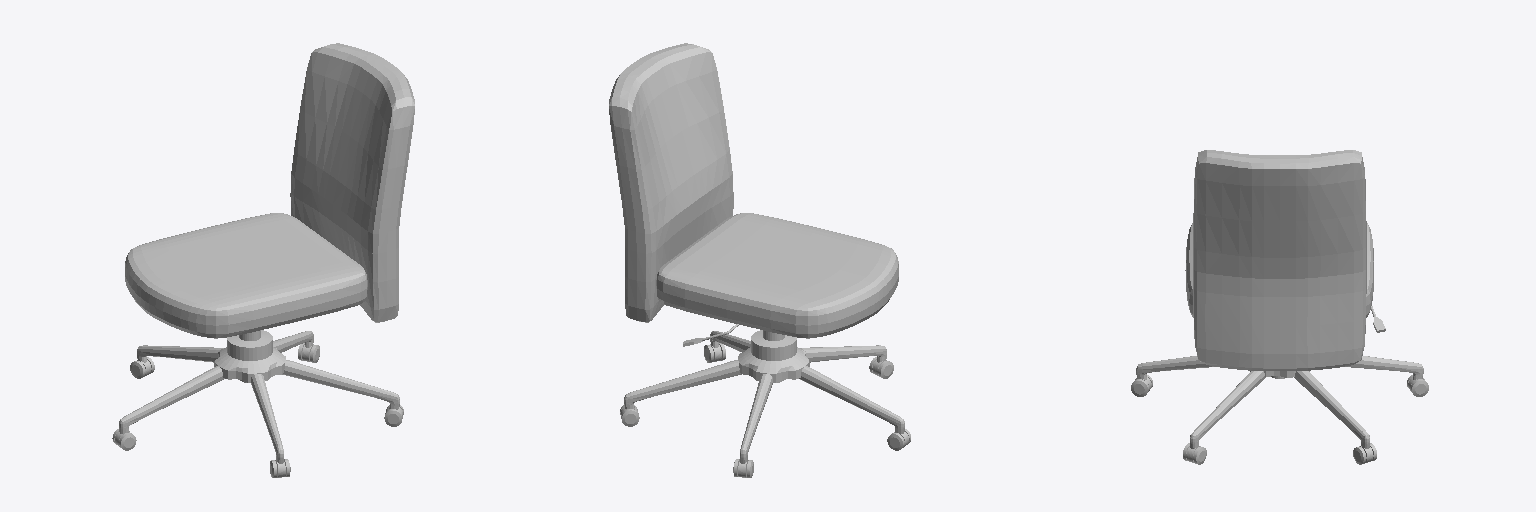
File: sillaVieja.obj
3 views of the same model, side by side, from view 1: azimuth 30°, elevation 25°; view 2: azimuth 150°, elevation 25°; view 3: azimuth 270°, elevation 25° (orthographic).
Parts seen in each view (by area): view 1: OldChair; view 2: OldChair; view 3: OldChair.
Part boxes in pixels (left/top/right/bottom): OldChair: left=112, top=43, right=414, bottom=477; OldChair: left=609, top=43, right=910, bottom=477; OldChair: left=1131, top=150, right=1428, bottom=464.
Bounding box in the file's own units: 4.48 × 4.9 × 4.15.